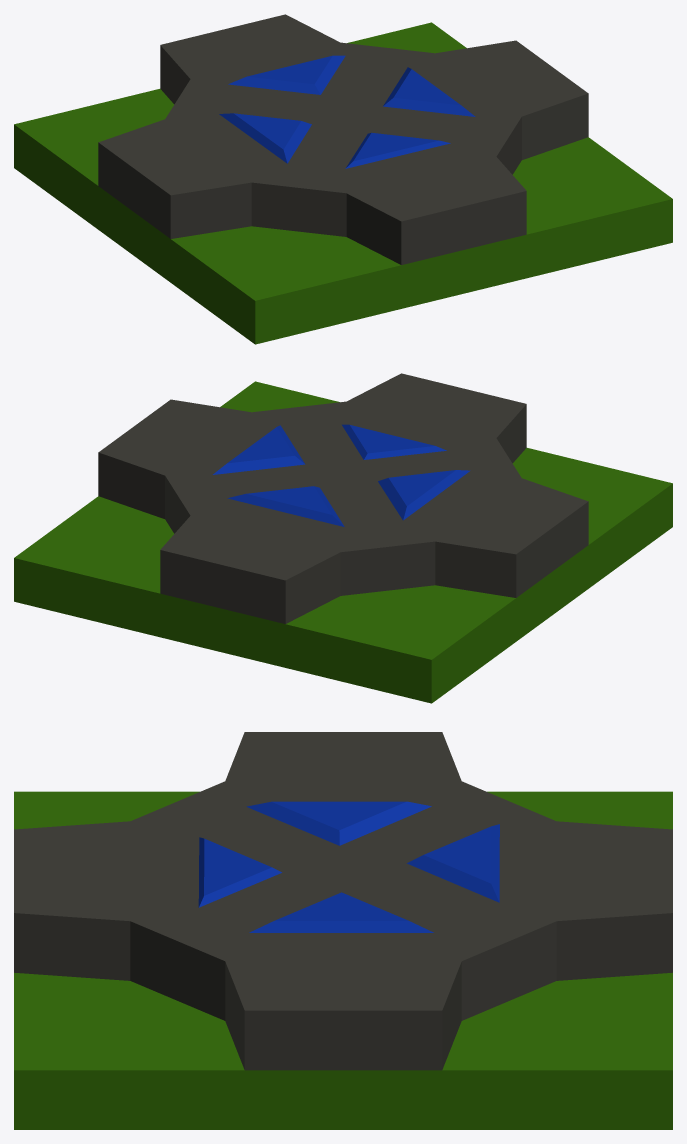
File: Puller.obj
3 renders of one model, top to bottom at view 1: azimuth 30°, elevation 25°; view 2: azimuth 150°, elevation 25°; view 3: azimuth 270°, elevation 25°, orthographic. The views are drawn at different scales.
Visible parts, largest first — view 1: Line002_Line002.001, Tilebase100_Tilebase100.001, Plane.003_Plane.010, Plane.002_Plane.009, Plane_Plane.007, Plane.001_Plane.008; view 2: Line002_Line002.001, Tilebase100_Tilebase100.001, Plane.003_Plane.010, Plane.002_Plane.009, Plane_Plane.007, Plane.001_Plane.008; view 3: Line002_Line002.001, Tilebase100_Tilebase100.001, Plane.002_Plane.009, Plane_Plane.007, Plane.003_Plane.010, Plane.001_Plane.008.
Boxes of the visible parts, <box> form: Line002_Line002.001: <box>98,14,588,264</box>; Tilebase100_Tilebase100.001: <box>14,22,672,344</box>; Plane.003_Plane.010: <box>228,55,345,94</box>; Plane.002_Plane.009: <box>219,113,311,163</box>; Plane_Plane.007: <box>383,67,475,116</box>; Plane.001_Plane.008: <box>345,132,450,168</box>; Line002_Line002.001: <box>98,373,588,623</box>; Tilebase100_Tilebase100.001: <box>14,381,672,703</box>; Plane.003_Plane.010: <box>227,486,344,526</box>; Plane.002_Plane.009: <box>378,470,470,520</box>; Plane_Plane.007: <box>213,425,305,474</box>; Plane.001_Plane.008: <box>342,424,446,459</box>; Line002_Line002.001: <box>14,732,672,1070</box>; Tilebase100_Tilebase100.001: <box>14,791,672,1129</box>; Plane.002_Plane.009: <box>246,801,431,845</box>; Plane_Plane.007: <box>249,892,433,932</box>; Plane.003_Plane.010: <box>407,824,499,902</box>; Plane.001_Plane.008: <box>198,837,281,907</box>.
Size of the model in its own units: 10 by 2.28 by 10.
